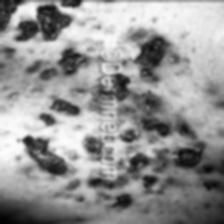Non-Cancerous Skin Condition: (0, 91, 97, 190), (126, 100, 210, 188), (0, 0, 93, 52), (134, 38, 186, 76), (173, 200, 224, 224)
